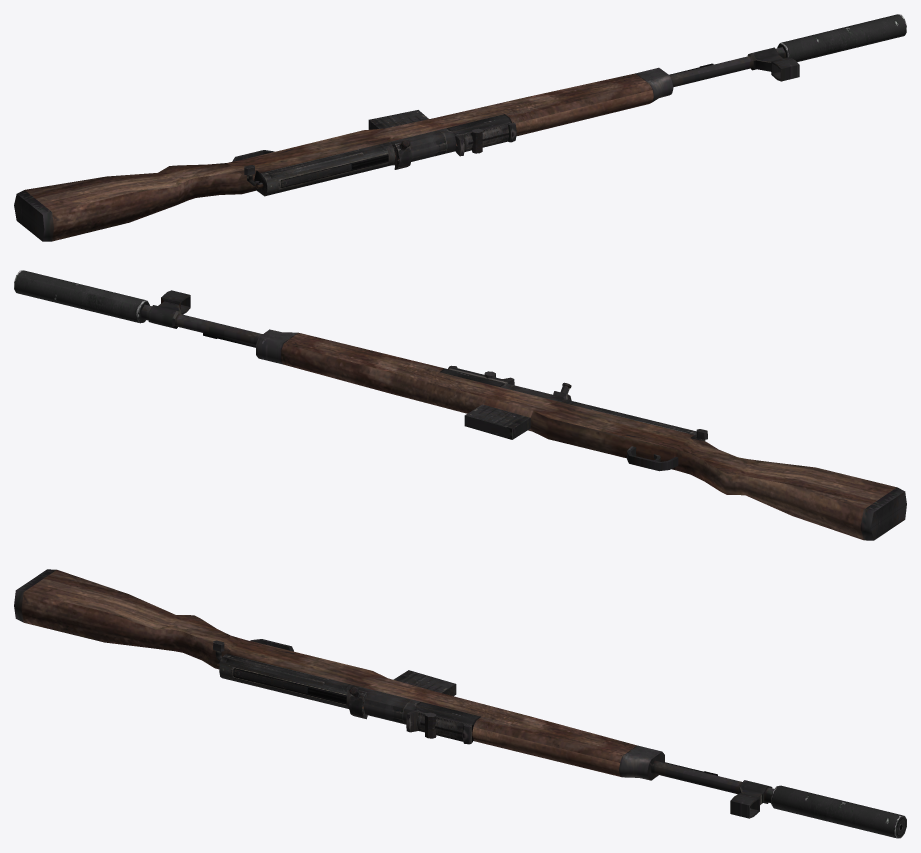
The model's file is weapon_ger_g43_rifle_silent_LOD01.obj.
The picture shows the model from 3 angles, top to bottom: view 1: azimuth 30°, elevation 25°; view 2: azimuth 150°, elevation 25°; view 3: azimuth 330°, elevation 25°; orthographic projection. The views are drawn at different scales.
Parts seen in each view (by area): view 1: TomGroup_1, TomGroup_0, TomGroup_2; view 2: TomGroup_1, TomGroup_0, TomGroup_2; view 3: TomGroup_1, TomGroup_0, TomGroup_2.
Part boxes in pixels (x1=…): TomGroup_1: x1=25, y1=73, x2=653, y2=241; TomGroup_0: x1=14, y1=47, x2=799, y2=241; TomGroup_2: x1=777, y1=14, x2=906, y2=61; TomGroup_1: x1=281, y1=332, x2=896, y2=540; TomGroup_0: x1=141, y1=290, x2=906, y2=540; TomGroup_2: x1=14, y1=270, x2=149, y2=323; TomGroup_1: x1=21, y1=570, x2=636, y2=777; TomGroup_0: x1=14, y1=569, x2=773, y2=818; TomGroup_2: x1=771, y1=785, x2=906, y2=838.
Bounding box in the file's own units: 146 × 5.53 × 17.92.
3 materials, 3 textured.
